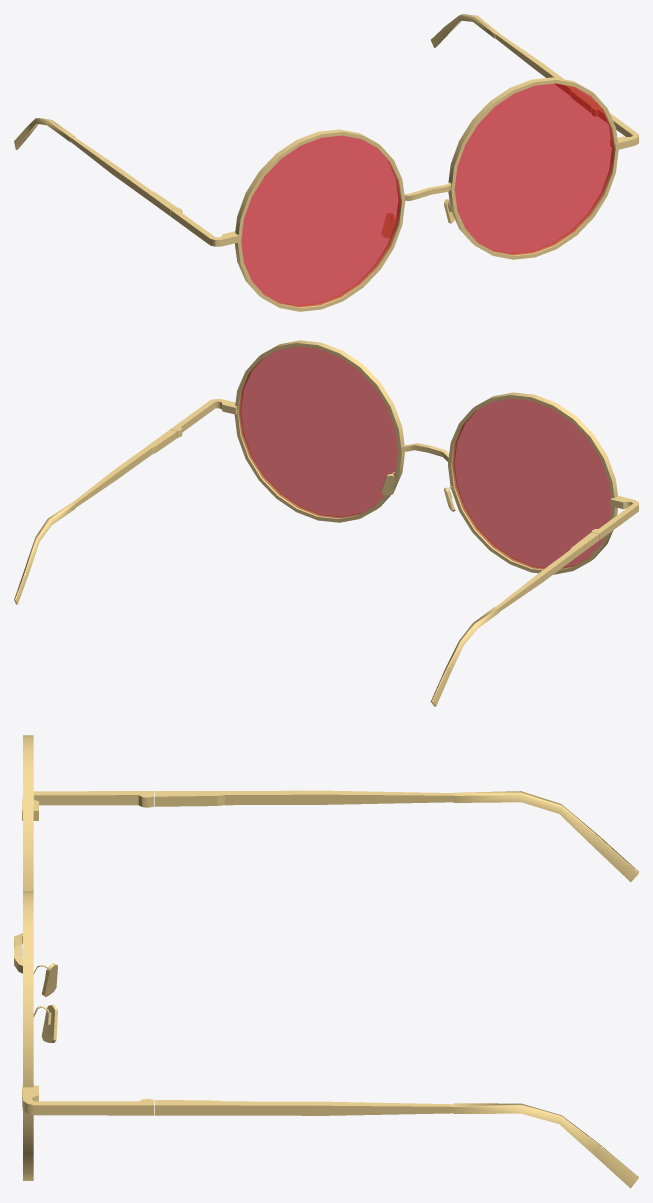
File: Hippie_B.glb
The picture shows the model from 3 angles, top to bottom: view 1: azimuth 30°, elevation 25°; view 2: azimuth 150°, elevation 25°; view 3: azimuth 270°, elevation 25°; orthographic projection. The views are drawn at different scales.
Visible parts, largest first — view 1: Hippie B; view 2: Hippie B; view 3: Hippie B.
Boxes of the visible parts, x1,y1,x2,y2 form: Hippie B: (14,14,638,311); Hippie B: (14,340,638,706); Hippie B: (14,735,638,1188).
Size of the model in its own units: 0.8203 by 0.319 by 0.6864.
Materials: 2 (2 with a texture image).
